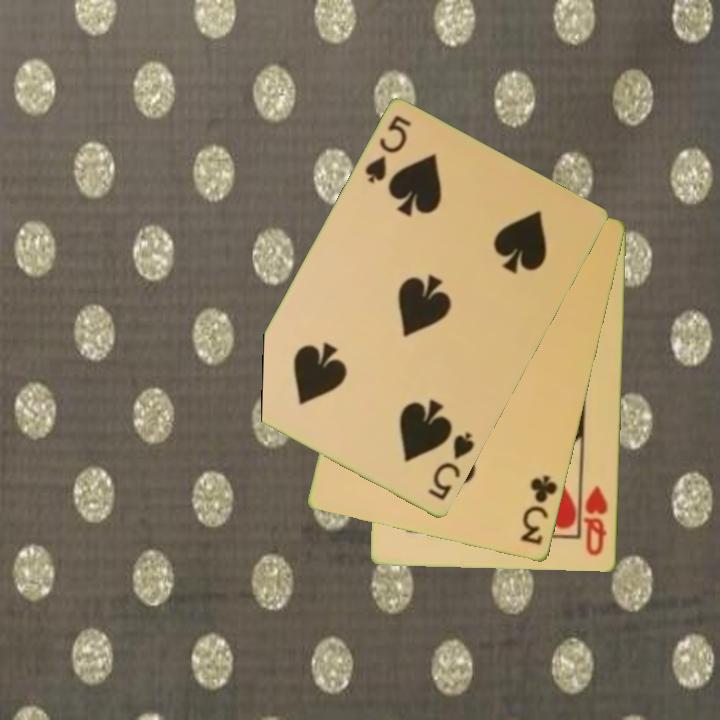3c: (517, 472, 561, 548)
5s: (424, 429, 478, 504), (361, 112, 414, 187)
Qh: (580, 483, 611, 559)
